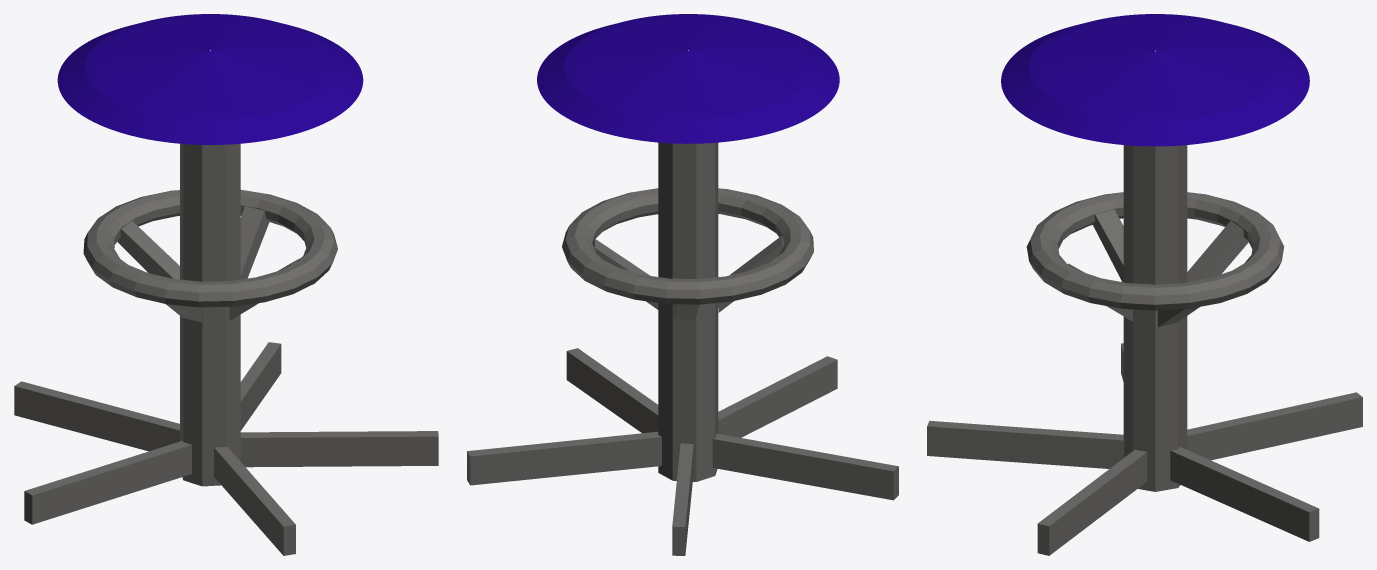
File: sandalye.fbx
3 renders of one model, left to right at view 1: azimuth 30°, elevation 25°; view 2: azimuth 150°, elevation 25°; view 3: azimuth 270°, elevation 25°, orthographic. The views are drawn at different scales.
Parts seen in each view (by area): view 1: Cylinder, Circle; view 2: Cylinder, Circle; view 3: Cylinder, Circle.
Boxes of the visible parts, x1,y1,x2,y2 form: Cylinder: (14,143,438,555); Circle: (57,14,363,144); Cylinder: (467,142,898,555); Circle: (537,14,839,143); Cylinder: (927,145,1362,555); Circle: (1001,14,1309,146).
Size of the model in its own units: 373 by 405 by 374.
